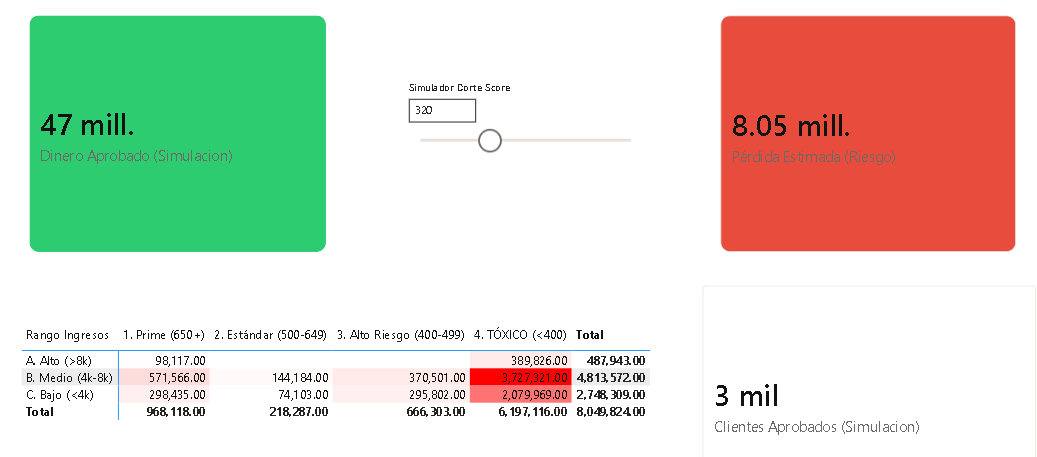

This screenshot's page, from the dashboard's own definition file:
{"tool":"powerbi","page":{"name":"Página 1","canvas":[1280,720],"ordinal":0},"visuals":[{"type":"slicer","fields":{"Values":["Simulador Corte Score.Simulador Corte Score"]},"box":[500,91.1,280,125.6],"z":0},{"type":"cardVisual","fields":{"Data":["nexus_bi_data.Clientes Aprobados (Simulacion)"]},"box":[818.9,303.3,401.1,294.4],"z":1000},{"type":"cardVisual","fields":{"Data":["nexus_bi_data.Dinero Aprobado (Simulacion)"]},"box":[78.9,6.7,360,294.4],"z":2000},{"type":"cardVisual","fields":{"Data":["nexus_bi_data.Pérdida Estimada (Riesgo)"]},"box":[839,6.6,359.6,294.7],"z":3000},{"type":"pivotTable","fields":{"Rows":["nexus_bi_data.Rango Ingresos"],"Columns":["nexus_bi_data.Rango Score"],"Values":["nexus_bi_data.Pérdida Estimada (Riesgo)"]},"box":[82.5,359.6,712.6,181.4],"z":4000}]}

Visuals, with their boxes on the page's 1280x720 design canvas (x1, y1, x2, y2). These are canvas units, not pixel positions in the 1037x457 screenshot, which may show the page scaled, cropped or inside an application window:
slicer - Simulador Corte Score.Simulador Corte Score: <bbox>500, 91, 780, 217</bbox>
cardVisual - nexus_bi_data.Clientes Aprobados (Simulacion): <bbox>819, 303, 1220, 598</bbox>
cardVisual - nexus_bi_data.Dinero Aprobado (Simulacion): <bbox>79, 7, 439, 301</bbox>
cardVisual - nexus_bi_data.Pérdida Estimada (Riesgo): <bbox>839, 7, 1199, 301</bbox>
pivotTable - nexus_bi_data.Rango Ingresos x nexus_bi_data.Rango Score: <bbox>82, 360, 795, 541</bbox>
